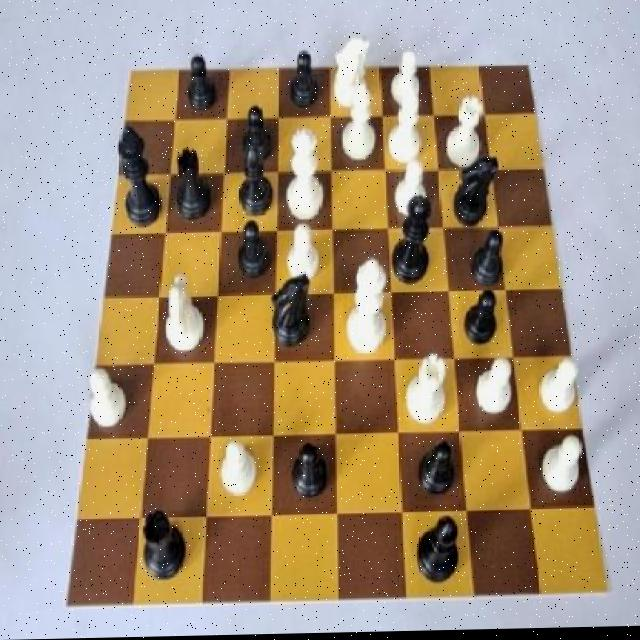bishop: (410, 510, 465, 595), (235, 130, 277, 226)
black-bishop: (109, 123, 162, 232)
black-king: (266, 268, 322, 354), (447, 153, 498, 231)
black-knight: (283, 434, 331, 510), (228, 214, 274, 288), (459, 285, 506, 355), (412, 438, 457, 508), (280, 44, 326, 111), (466, 222, 510, 292), (235, 98, 277, 167), (183, 42, 220, 118)
black-pawn: (388, 188, 442, 290)
black-queen: (136, 505, 191, 595), (168, 139, 215, 224)
black-rook: (337, 72, 380, 170), (383, 85, 426, 170)
white-bishop: (342, 253, 391, 369)
white-king: (158, 270, 212, 357), (328, 24, 377, 116)
white-knight: (532, 431, 592, 502), (528, 356, 584, 425), (213, 429, 264, 500), (78, 368, 128, 440), (472, 346, 517, 424), (280, 217, 328, 289), (385, 40, 429, 116), (391, 157, 432, 225)
white-pawn: (280, 125, 328, 225)
white-queen: (440, 93, 492, 174), (402, 351, 452, 430)
